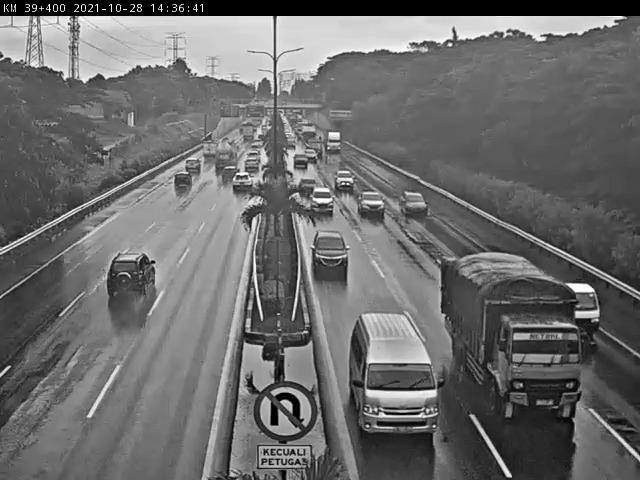big truck: (470, 280, 586, 423)
car: (98, 243, 166, 314), (572, 277, 599, 331), (317, 229, 353, 267), (355, 179, 379, 221), (164, 174, 194, 200), (308, 181, 334, 205), (338, 162, 358, 188), (400, 193, 416, 218), (234, 170, 251, 191), (179, 159, 190, 179)
small bus: (369, 332, 427, 420)
